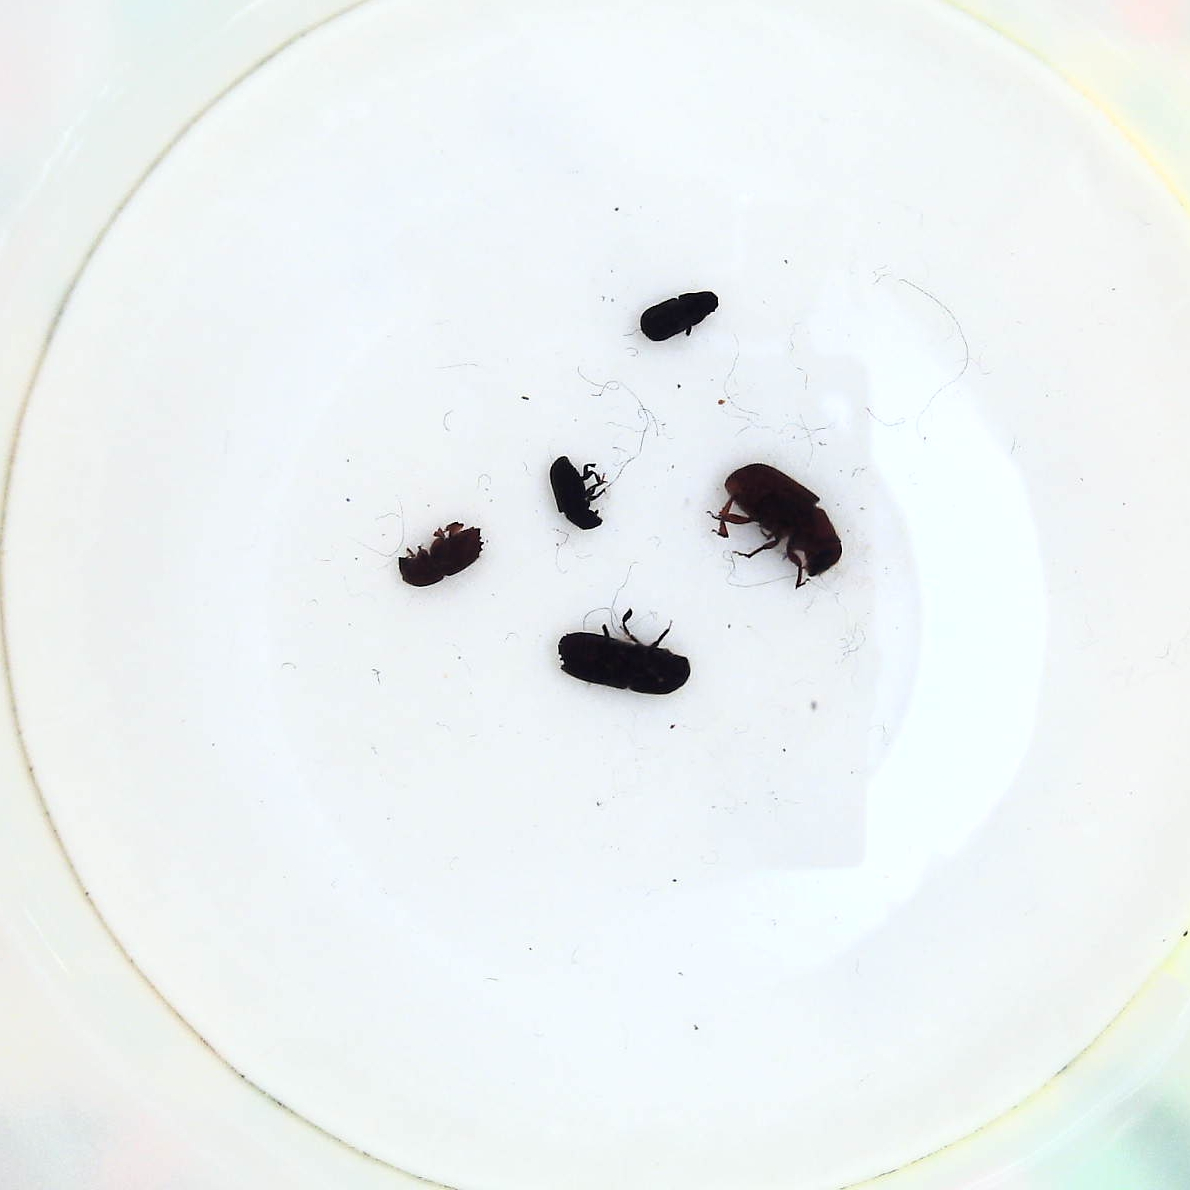Boerner: (554, 602, 691, 700)
Leconte: (715, 456, 842, 587)
armandi: (639, 283, 725, 348)
coleoptera: (547, 451, 614, 534)
linnaeus: (398, 517, 491, 590)
